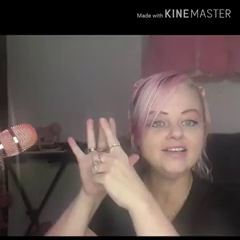O: (61, 114, 144, 203)
